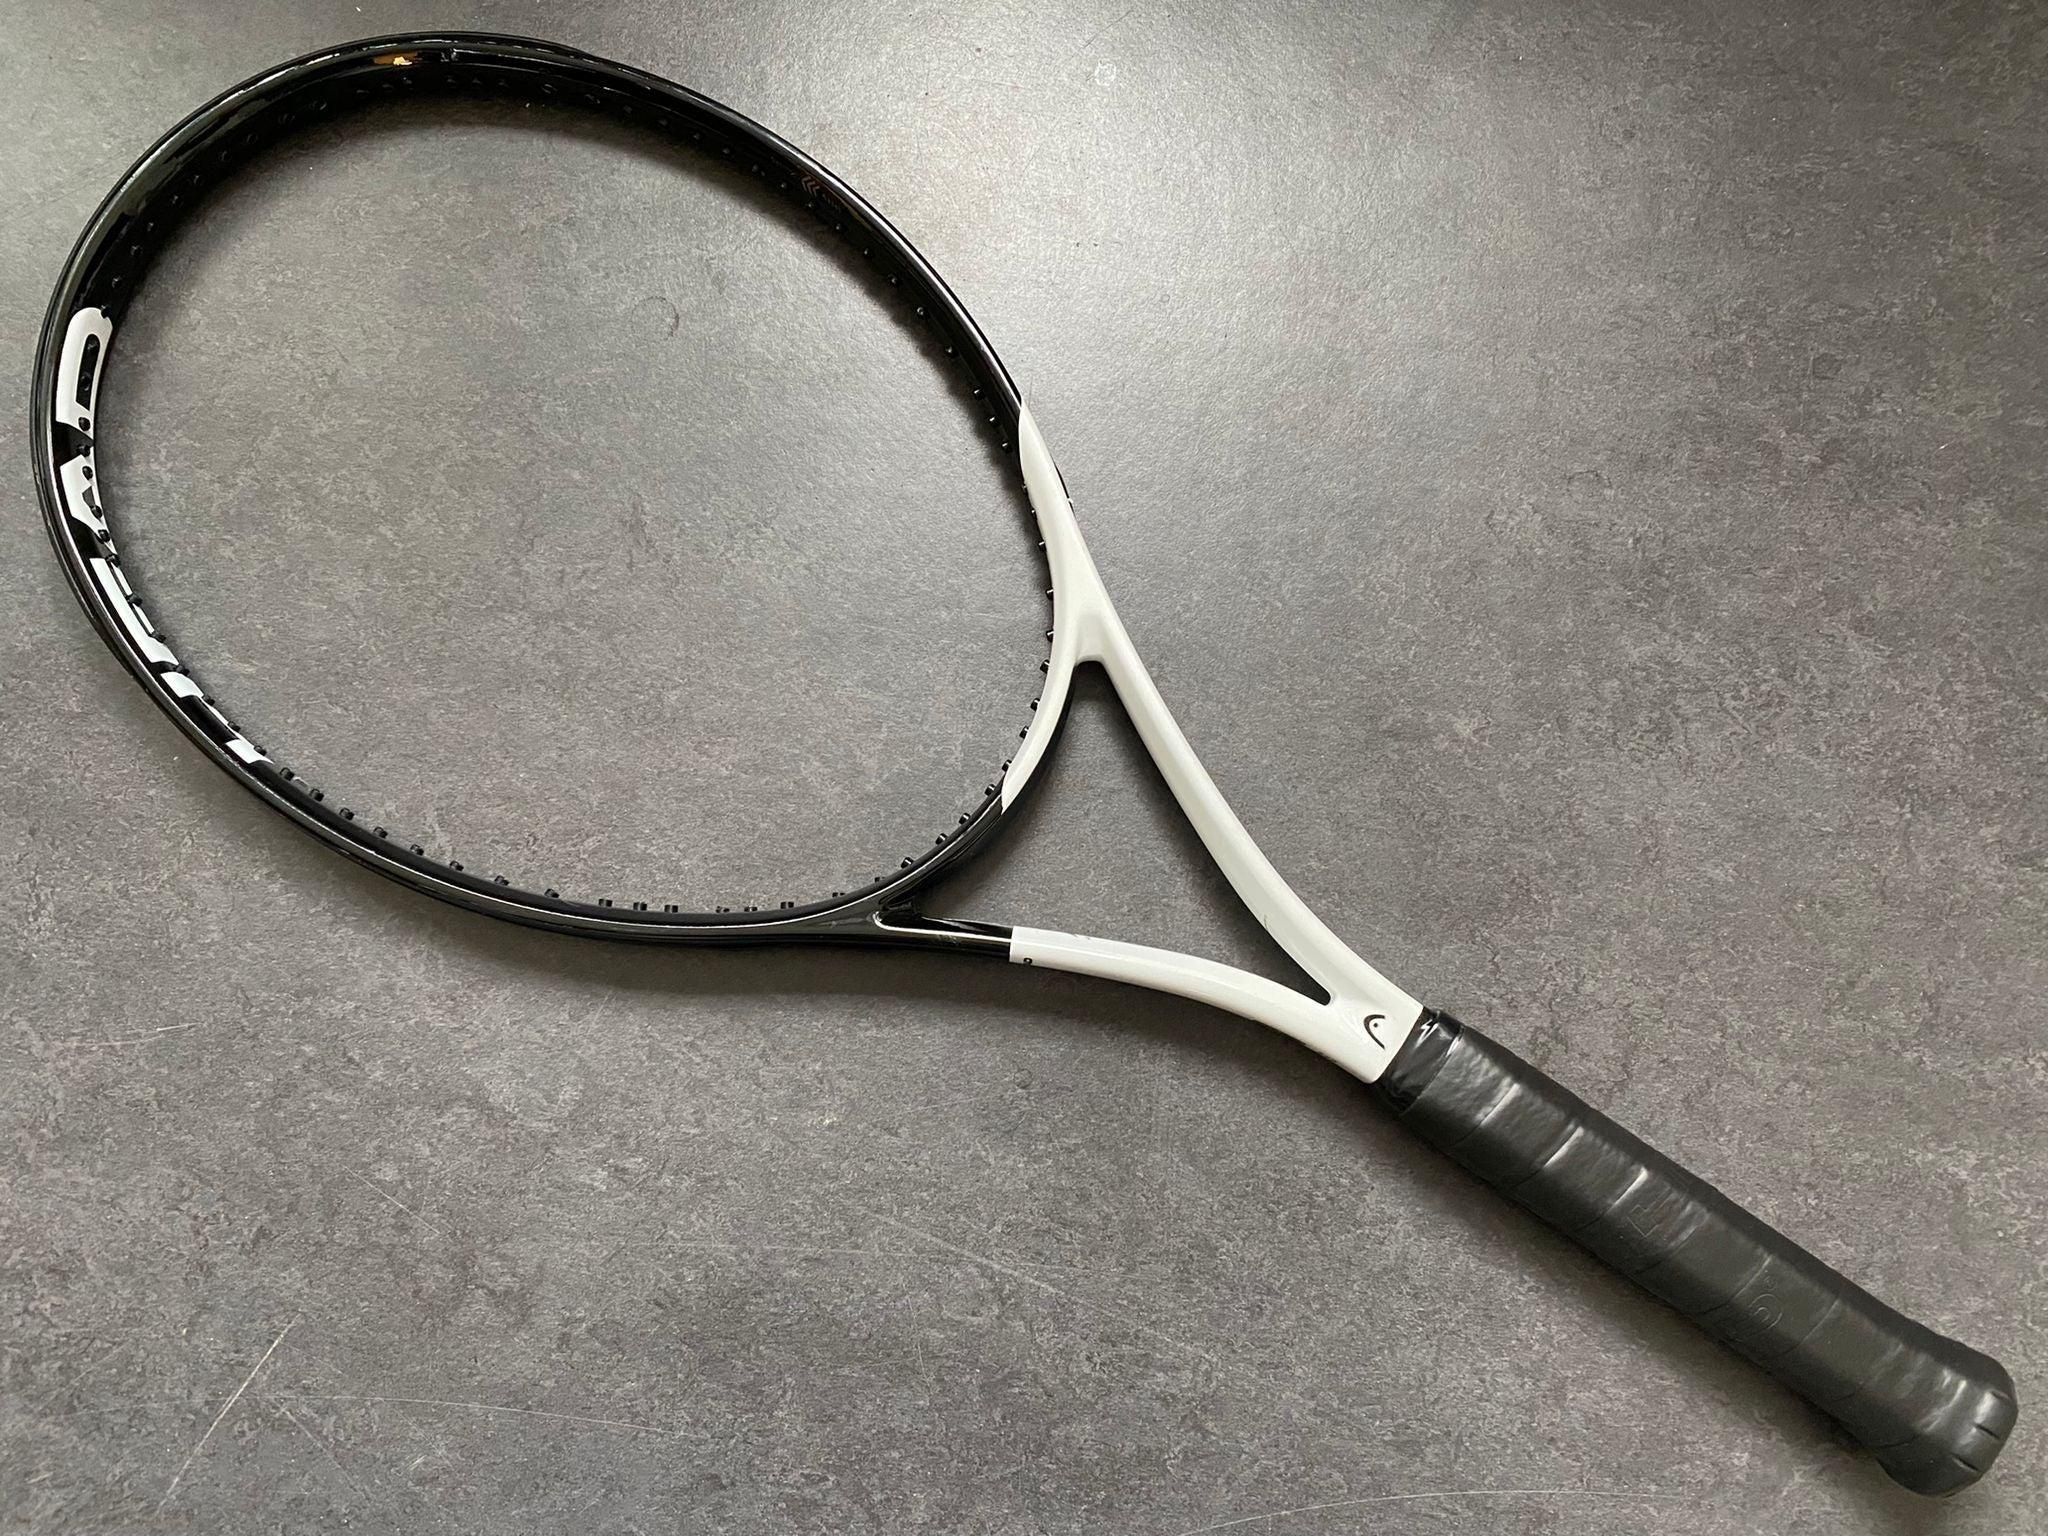Tennis-Racket: (32, 35, 2016, 1496)
